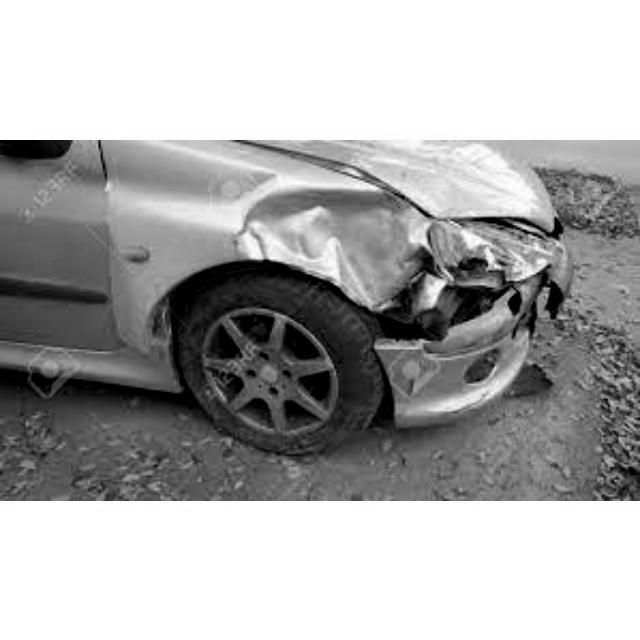Headlight-damage: (398, 212, 556, 286)
fender-dent: (108, 142, 401, 452)
front-bumper-dent: (375, 274, 584, 430)
